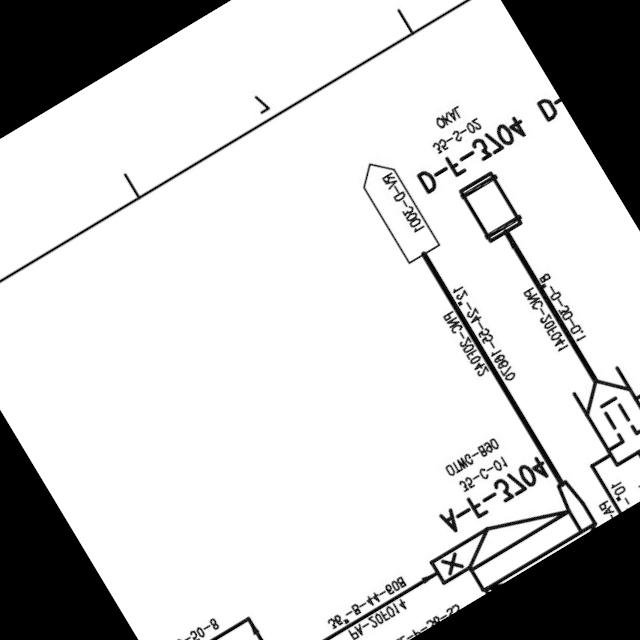D2: (452, 164, 534, 252)
FT2: (563, 357, 640, 477)
